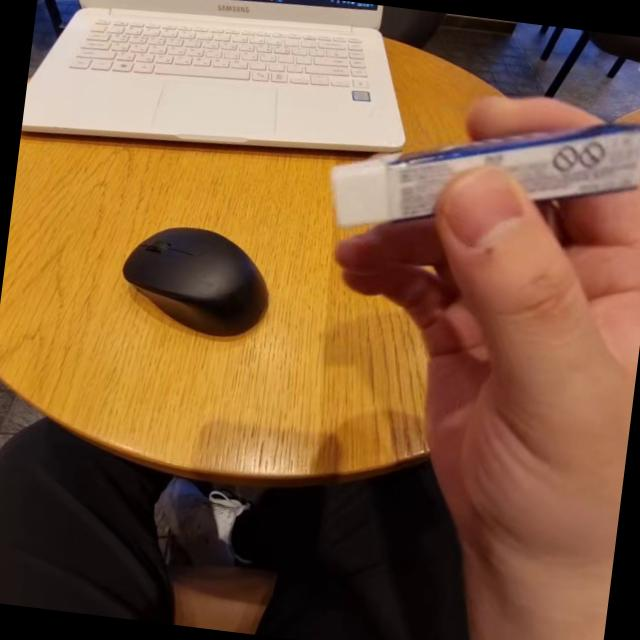eraser: (308, 90, 640, 272)
grab_eraser: (287, 81, 640, 630)
mouse: (111, 212, 282, 350)
